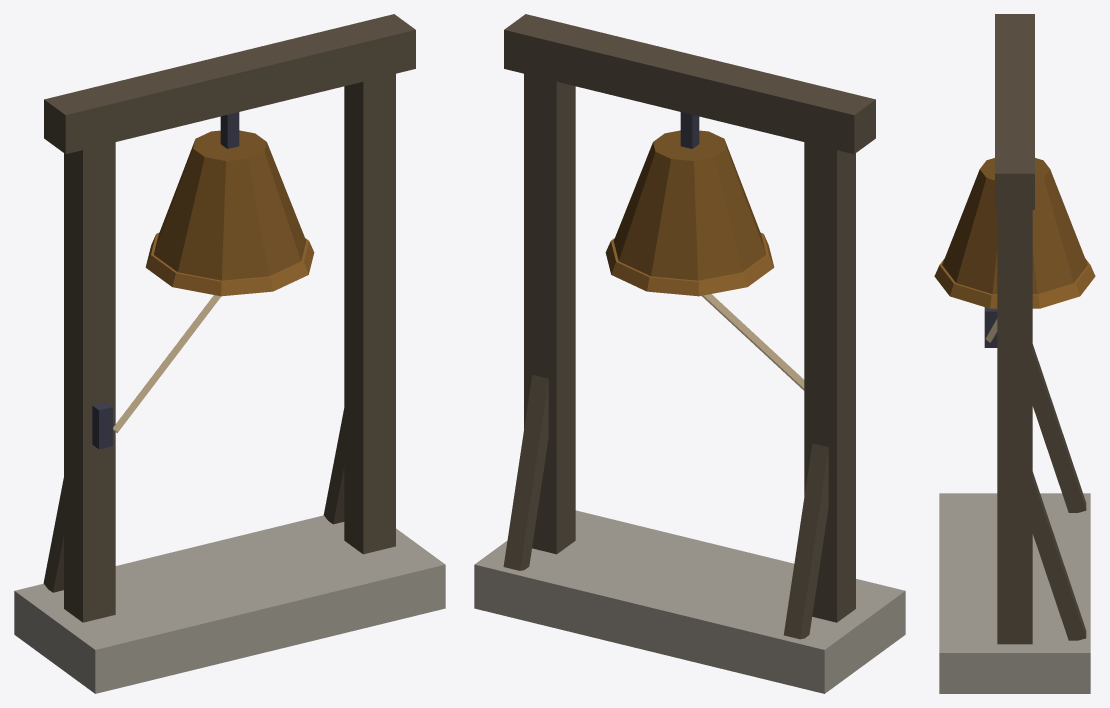
Rendered from vigil_bell.glb.
The picture shows the model from 3 angles, left to right: view 1: azimuth 30°, elevation 25°; view 2: azimuth 150°, elevation 25°; view 3: azimuth 270°, elevation 25°; orthographic projection. The views are drawn at different scales.
Visible parts, largest first — view 1: driftwood_d55, bone_d30, ember_d50, ember_d40, ink_l15, driftwood_d10; view 2: driftwood_d55, bone_d30, ember_d50, ember_d40, driftwood_d10, ink_l15; view 3: driftwood_d55, bone_d30, ember_d50, ember_d40, ink_l15.
Boxes of the visible parts, x1,y1,x2,y2 form: driftwood_d55: [43, 14, 415, 622]; bone_d30: [14, 515, 445, 693]; ember_d50: [154, 130, 306, 280]; ember_d40: [145, 233, 314, 296]; ink_l15: [92, 112, 239, 449]; driftwood_d10: [113, 295, 221, 433]; driftwood_d55: [503, 14, 875, 639]; bone_d30: [474, 510, 905, 693]; ember_d50: [613, 130, 765, 280]; ember_d40: [605, 233, 774, 296]; driftwood_d10: [702, 294, 804, 390]; ink_l15: [680, 112, 699, 148]; driftwood_d55: [995, 14, 1086, 644]; bone_d30: [939, 493, 1090, 693]; ember_d50: [942, 158, 1087, 294]; ember_d40: [934, 258, 1095, 308]; ink_l15: [984, 307, 997, 347].
Size of the model in its own units: 1.5 by 2.28 by 0.64.
